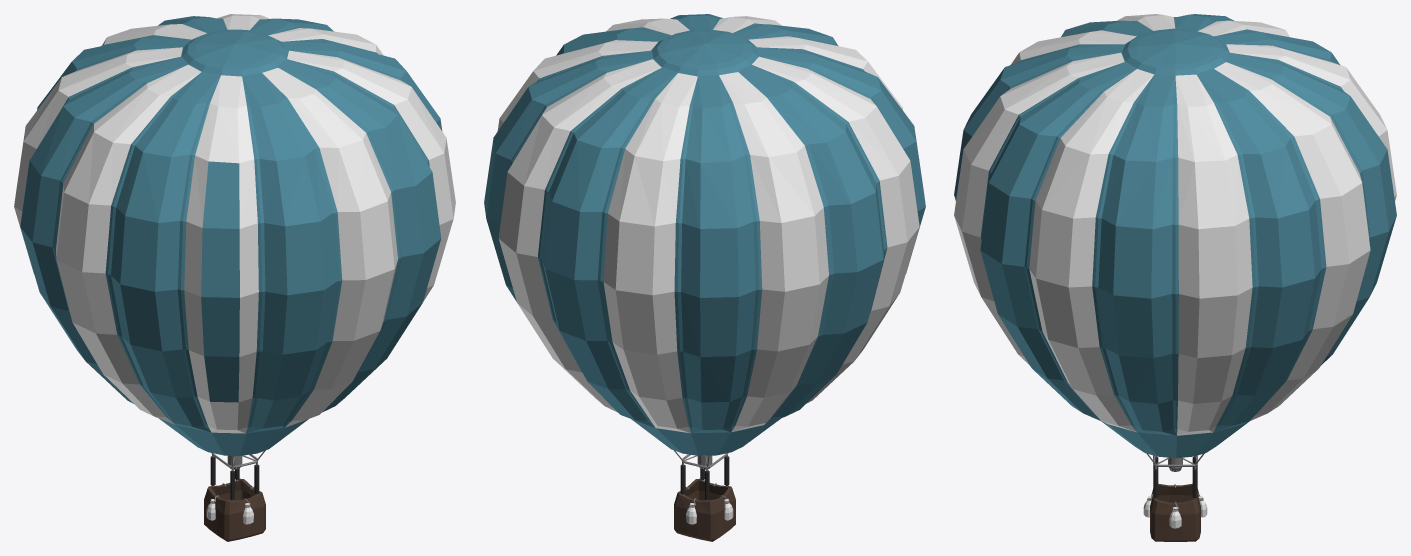
File: Hot air balloon by Poly by Google - 7Fej0Jd3_Di-transformed.glb
The picture shows the model from 3 angles, left to right: view 1: azimuth 30°, elevation 25°; view 2: azimuth 150°, elevation 25°; view 3: azimuth 270°, elevation 25°; orthographic projection.
Visible parts, largest first — view 1: Hot_Air_Balloon; view 2: Hot_Air_Balloon; view 3: Hot_Air_Balloon.
Part boxes in pixels (left/top/right/bottom): Hot_Air_Balloon: left=14, top=14, right=455, bottom=541; Hot_Air_Balloon: left=484, top=14, right=925, bottom=541; Hot_Air_Balloon: left=954, top=14, right=1396, bottom=541.
Bounding box in the file's own units: 68.27 × 83.27 × 68.27.
1 material, 1 textured.
